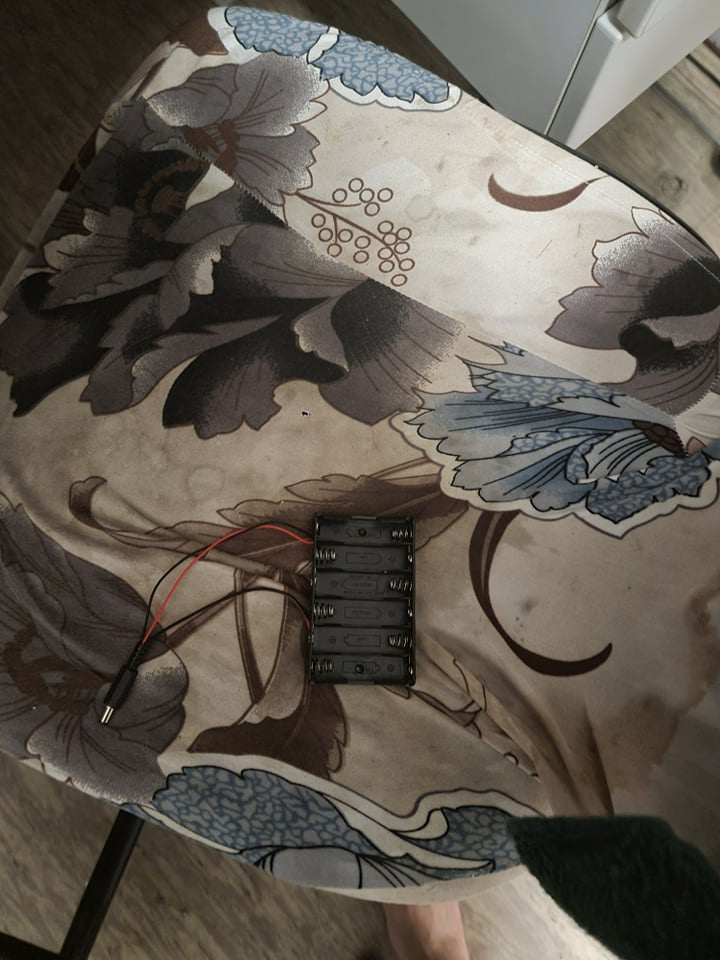BATTERY BOX: (306, 507, 416, 692)
